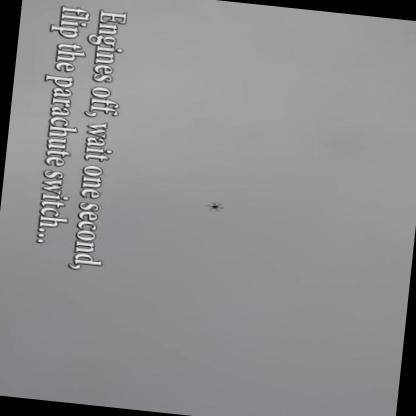drone: (203, 199, 227, 214)
